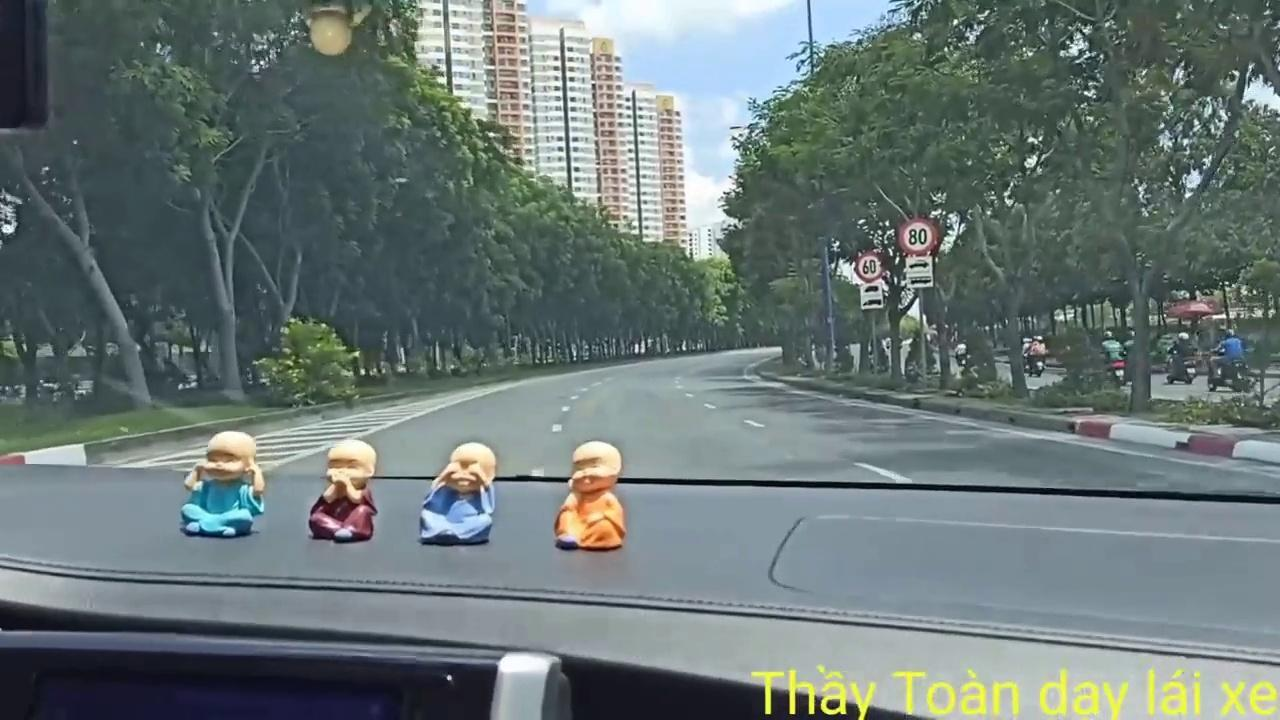Biển phụ: (905, 258, 934, 288), (859, 284, 885, 308)
GIơi hạn tốc độ 60Km/h: (856, 251, 884, 282)
Giới hạn tốc độ 80Km/h: (898, 216, 938, 256)
